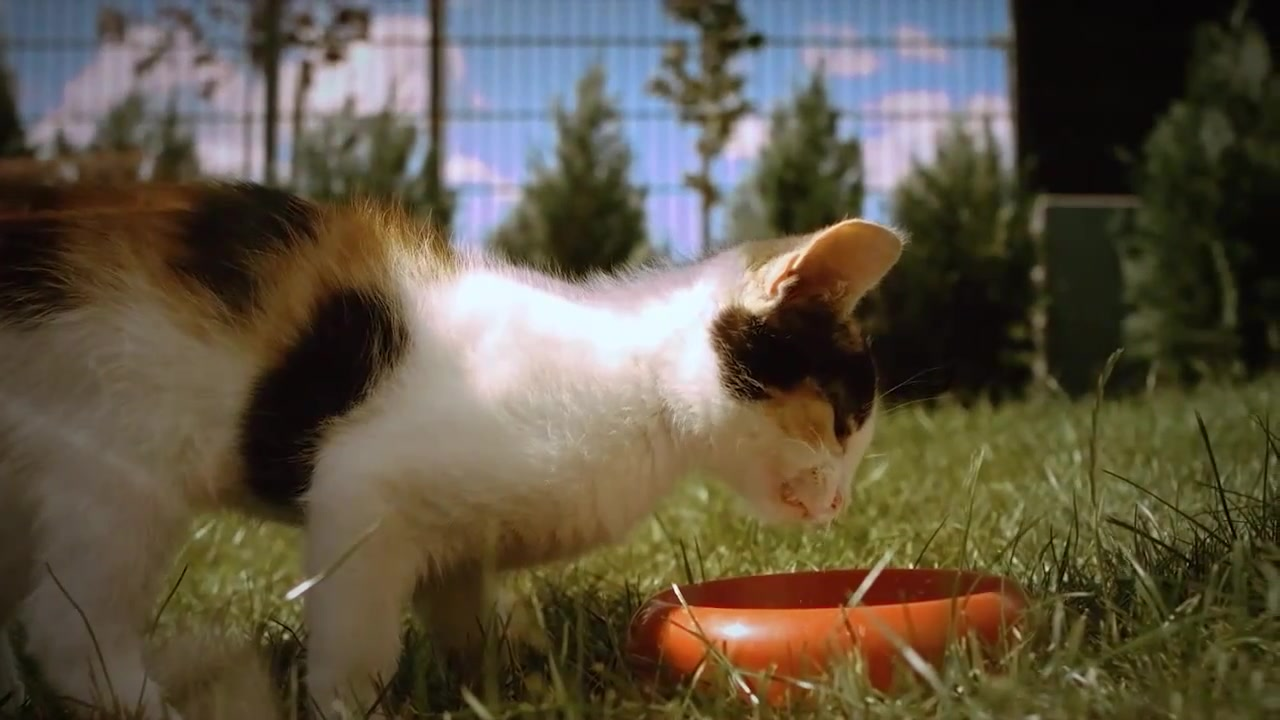cat: (1, 164, 909, 719)
